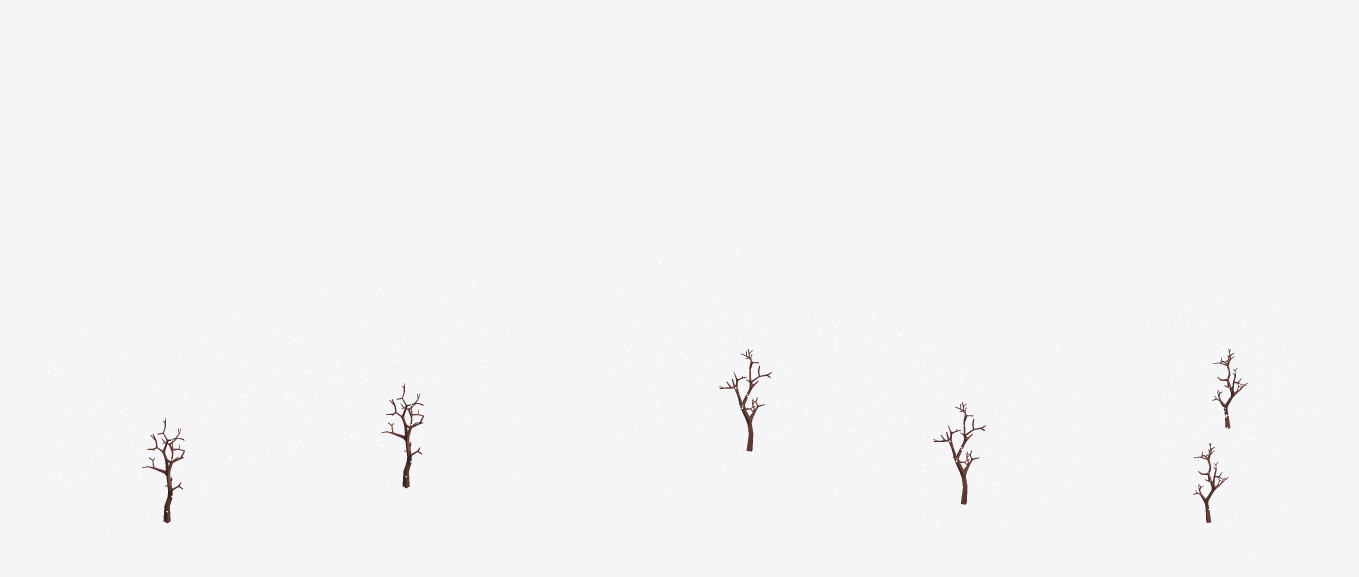
The model's file is Snow.glb.
The picture shows the model from 3 angles, left to right: view 1: azimuth 30°, elevation 25°; view 2: azimuth 150°, elevation 25°; view 3: azimuth 270°, elevation 25°; orthographic projection. The views are drawn at different scales.
Visible parts, largest first — view 1: CombinedMesh (×2); view 2: CombinedMesh (×2); view 3: CombinedMesh (×2).
Part boxes in pixels (<box>): CombinedMesh (×2): <box>14,14,566,562</box>; CombinedMesh (×2): <box>595,14,1088,562</box>; CombinedMesh (×2): <box>1117,14,1344,562</box>.
Size of the model in its own units: 44.29 by 43.65 by 23.68.
